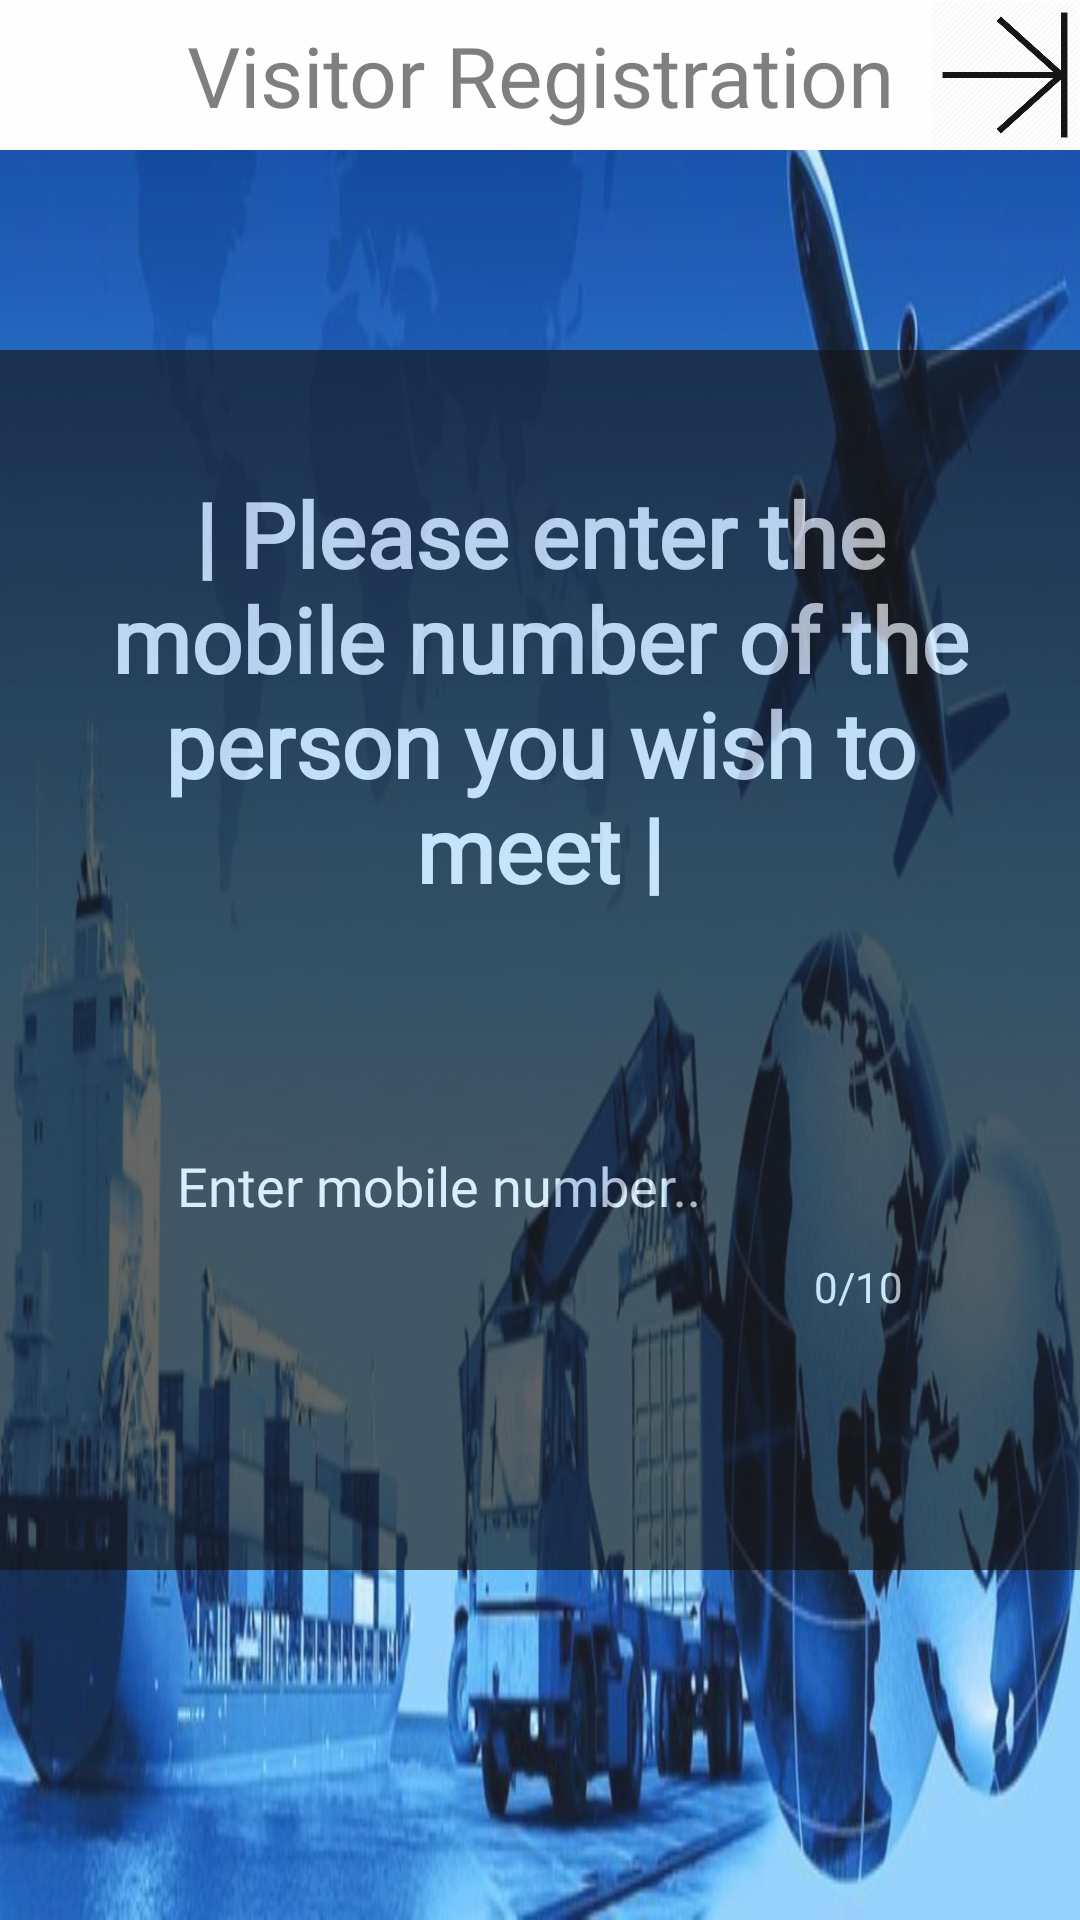

Where to tap for icons on this 1080 × 1920 app screen, as (x,y):
next page: (1005,75)
